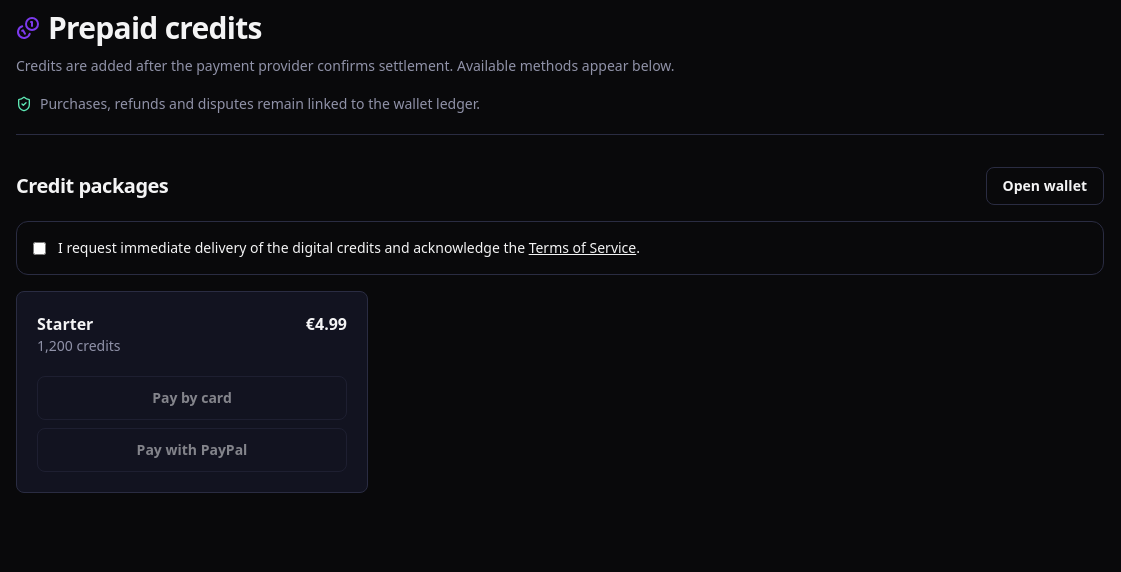
Test: PricingPage › requires delivery consent and surfaces provider checkout errors
Expected: the button "Pay by card" is disabled, 37,376 -> 347,420
Expected: the button "Pay with PayPal" is disabled, 37,428 -> 347,472
What coordinates should you click on to do the following:
click the checkbox
I would click on:
 (40, 248)
Its box is 33,242 -> 46,255.
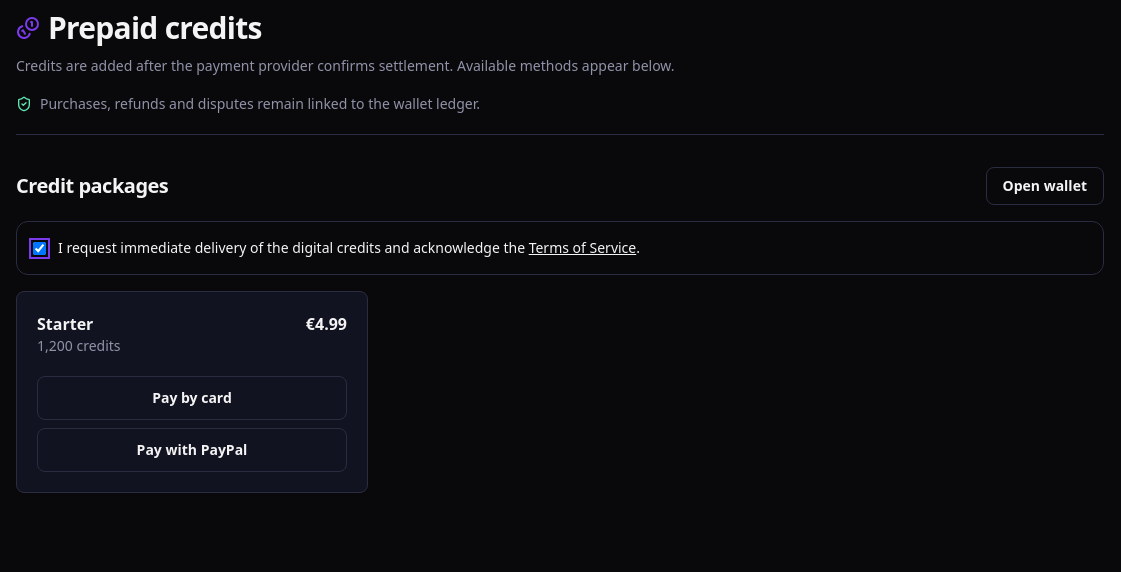
Result: the button "Pay by card" is enabled
What coordinates should you click on to do the following:
click the button "Pay by card"
I would click on:
 (192, 398)
Its box is 37,376 -> 347,420.
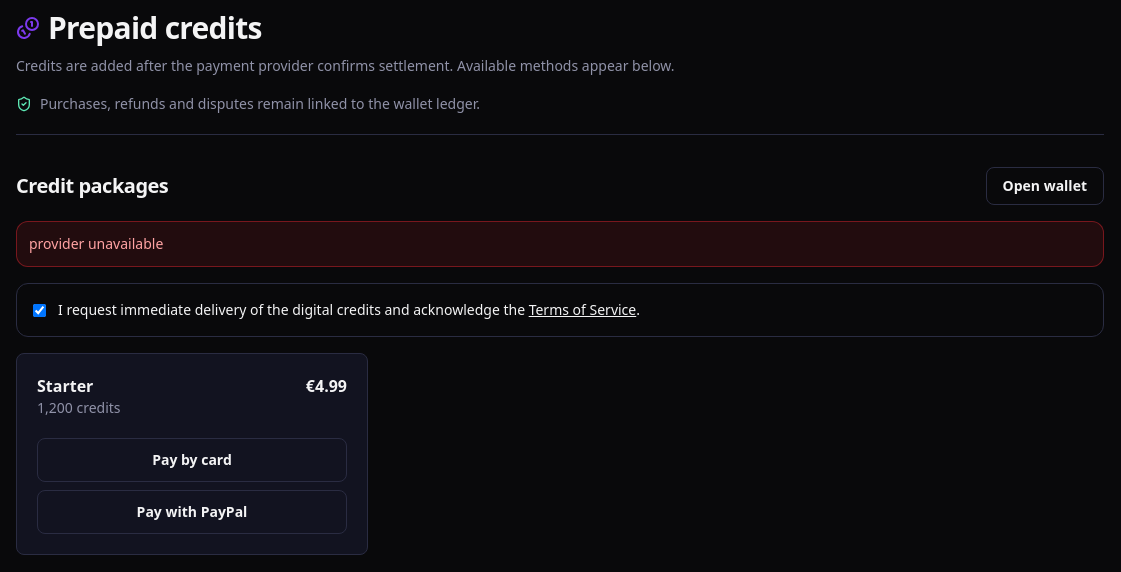
Result: the button "Pay by card" is enabled at 37,438 -> 347,482
Result: the text "provider unavailable" is shown at 16,221 -> 1104,267
What coordinates should you click on to do the following:
click the button "Pay with PayPal"
I would click on:
 (192, 512)
Its box is 37,490 -> 347,534.
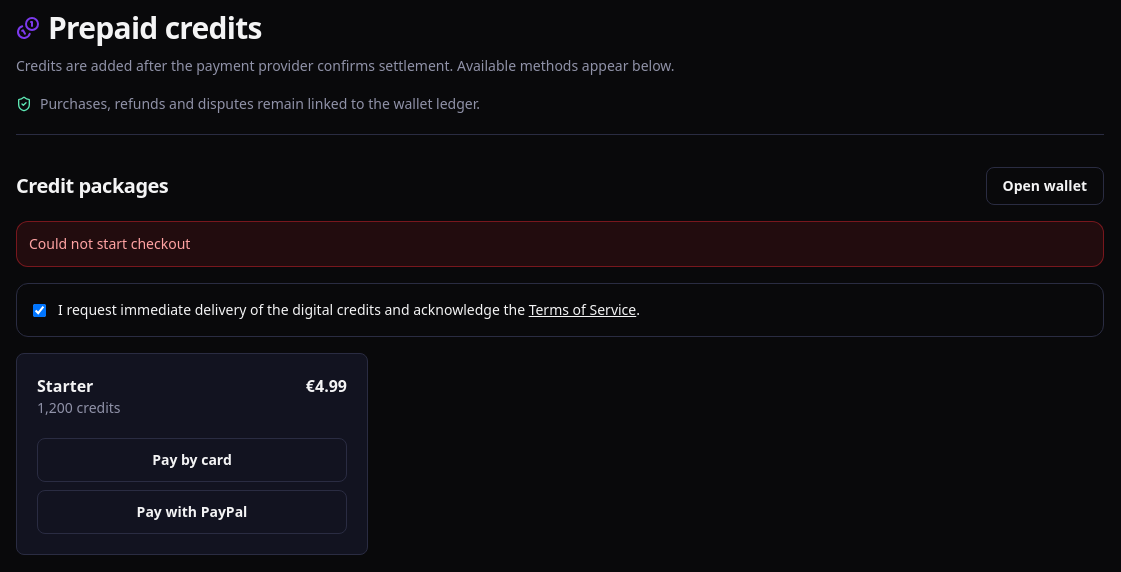
Result: the text "Could not start checkout" is shown at 16,221 -> 1104,267
